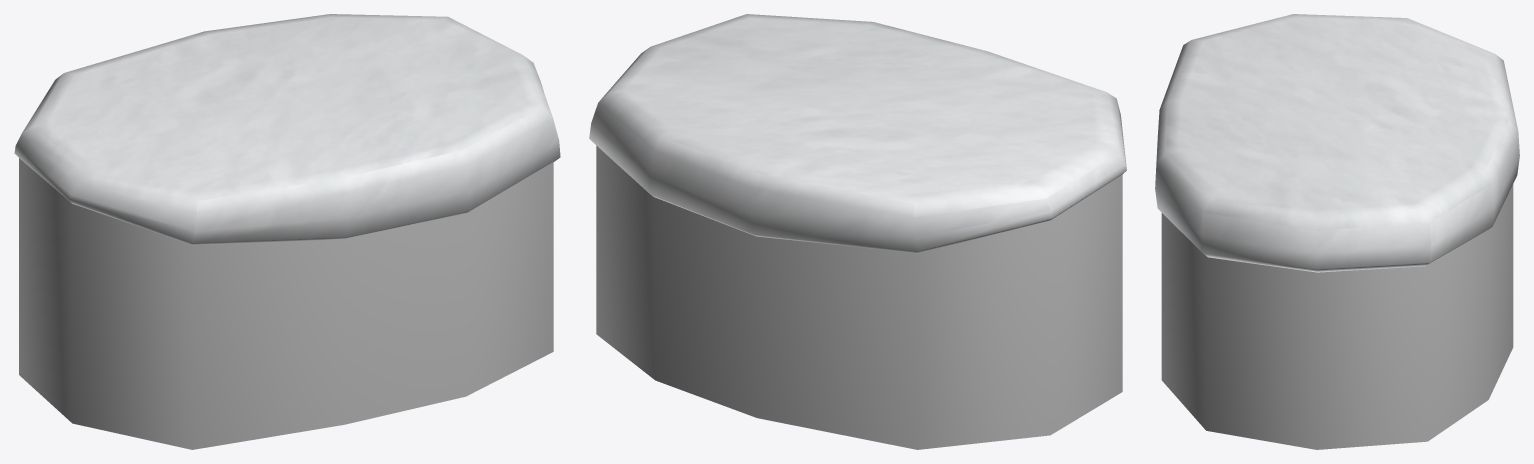
Rendered from Cliff01.fbx.
3 views of the same model, side by side, from view 1: azimuth 30°, elevation 25°; view 2: azimuth 150°, elevation 25°; view 3: azimuth 270°, elevation 25° (orthographic). The views are drawn at different scales.
Visible parts, largest first — view 1: Cliff01; view 2: Cliff01; view 3: Cliff01.
Part boxes in pixels (x1,y1,x2,y2): Cliff01: (14,14,560,449); Cliff01: (589,14,1126,449); Cliff01: (1155,14,1519,449).
Bounding box in the file's own units: 479 × 232 × 336.
